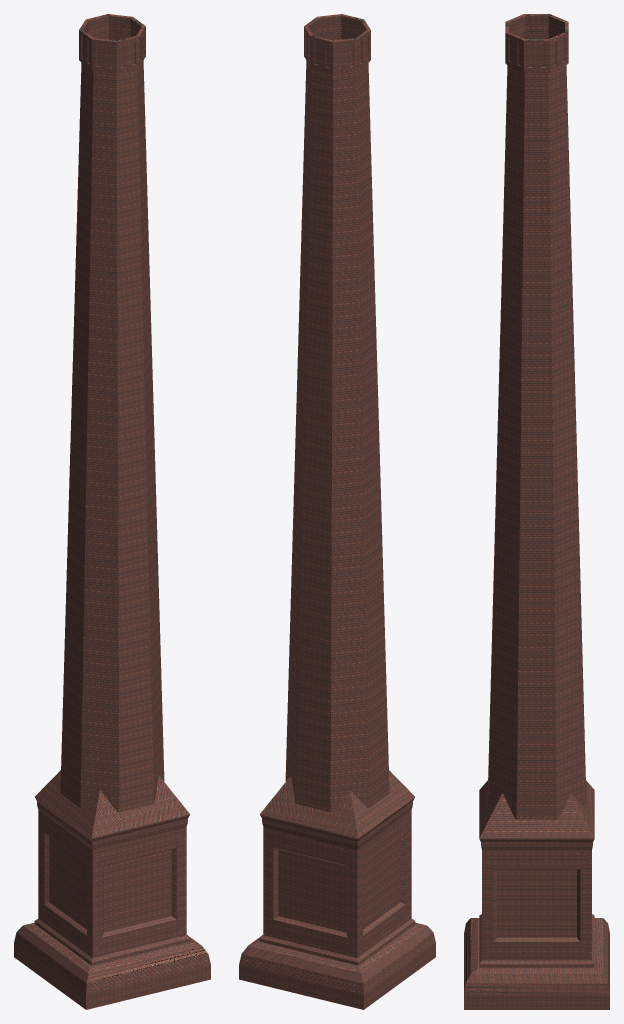
Rendered from frenckell.obj.
The picture shows the model from 3 angles, left to right: view 1: azimuth 30°, elevation 25°; view 2: azimuth 150°, elevation 25°; view 3: azimuth 270°, elevation 25°; orthographic projection.
Parts seen in each view (by area): view 1: Cube.000_Cube.004; view 2: Cube.000_Cube.004; view 3: Cube.000_Cube.004.
Part boxes in pixels (bbox=[...]): Cube.000_Cube.004: bbox=[14, 14, 210, 1009]; Cube.000_Cube.004: bbox=[239, 14, 435, 1009]; Cube.000_Cube.004: bbox=[464, 14, 609, 1009].
Size of the model in its own units: 8.6 by 62 by 8.6.
Materials: 3 (3 with a texture image).
